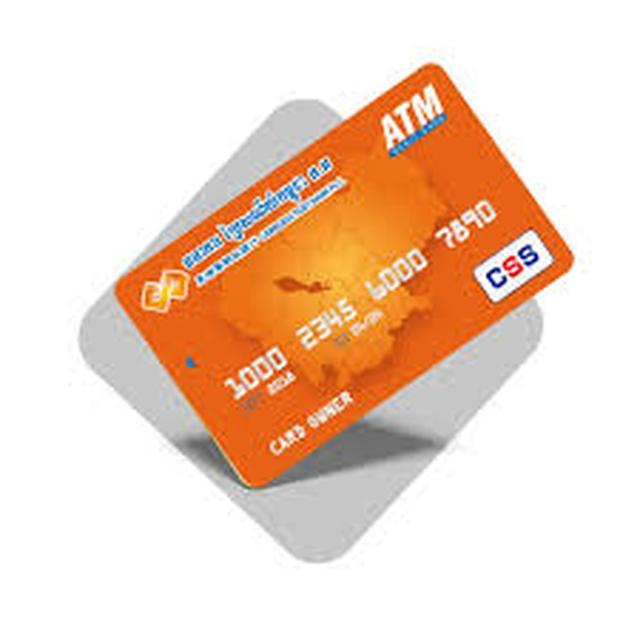card: (84, 36, 612, 504)
